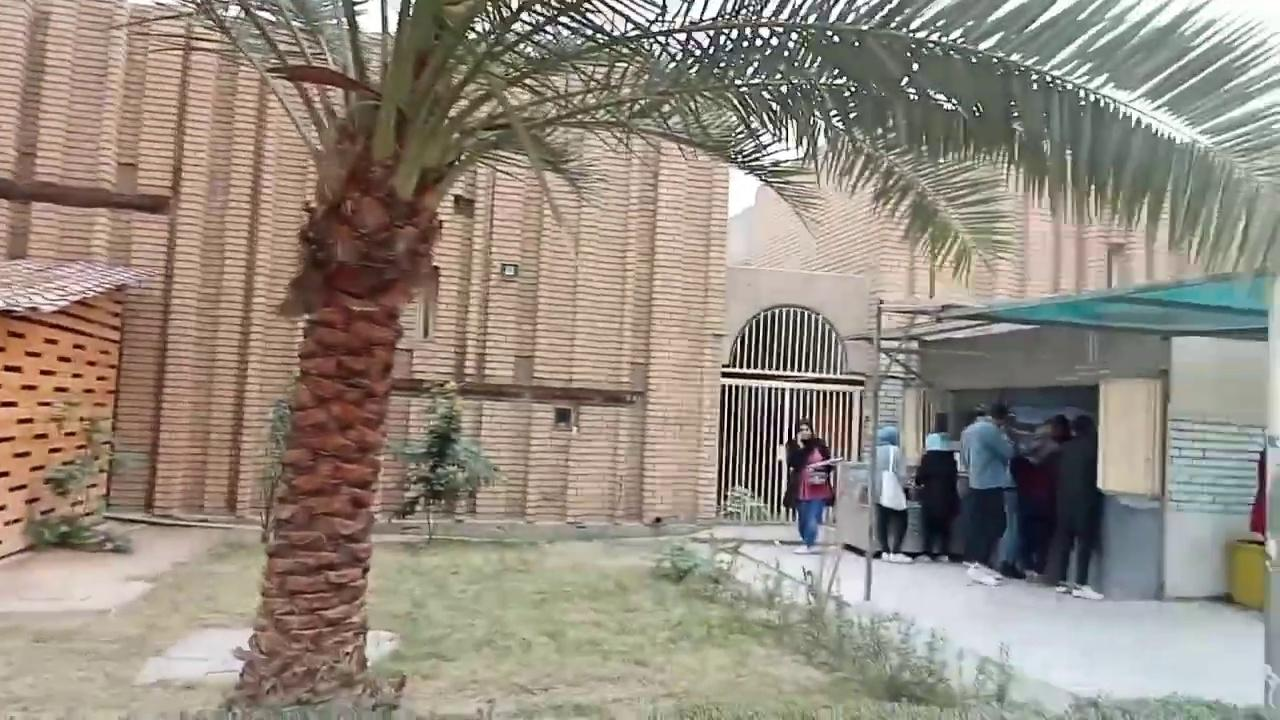person: (1005, 413, 1073, 581), (959, 401, 1015, 569), (1055, 413, 1104, 599), (783, 417, 835, 554), (913, 431, 961, 562), (869, 425, 913, 563)
tree: (103, 3, 1278, 714), (386, 378, 508, 540), (23, 396, 132, 554)
